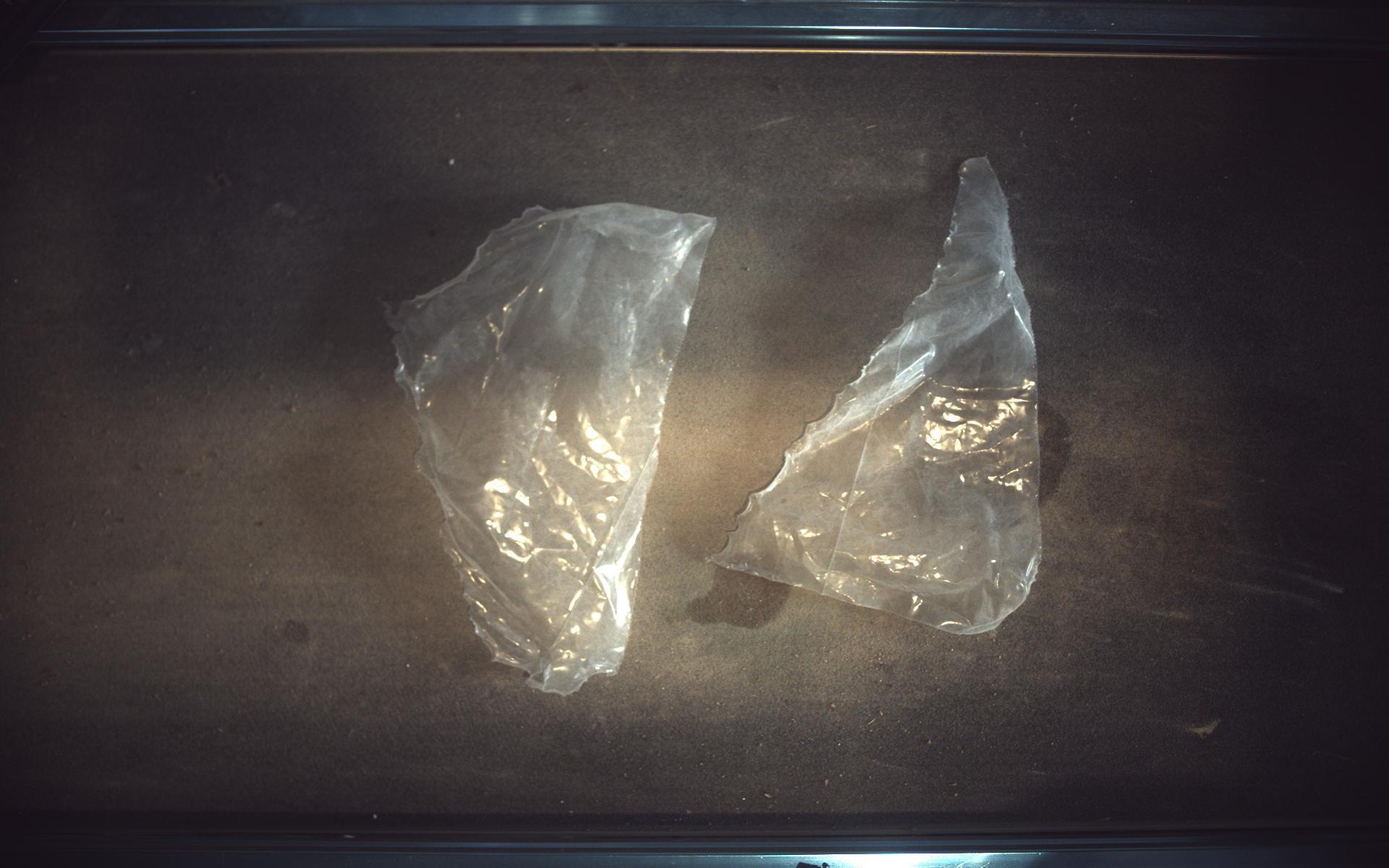general_w: (388, 203, 716, 696), (713, 156, 1043, 635)
